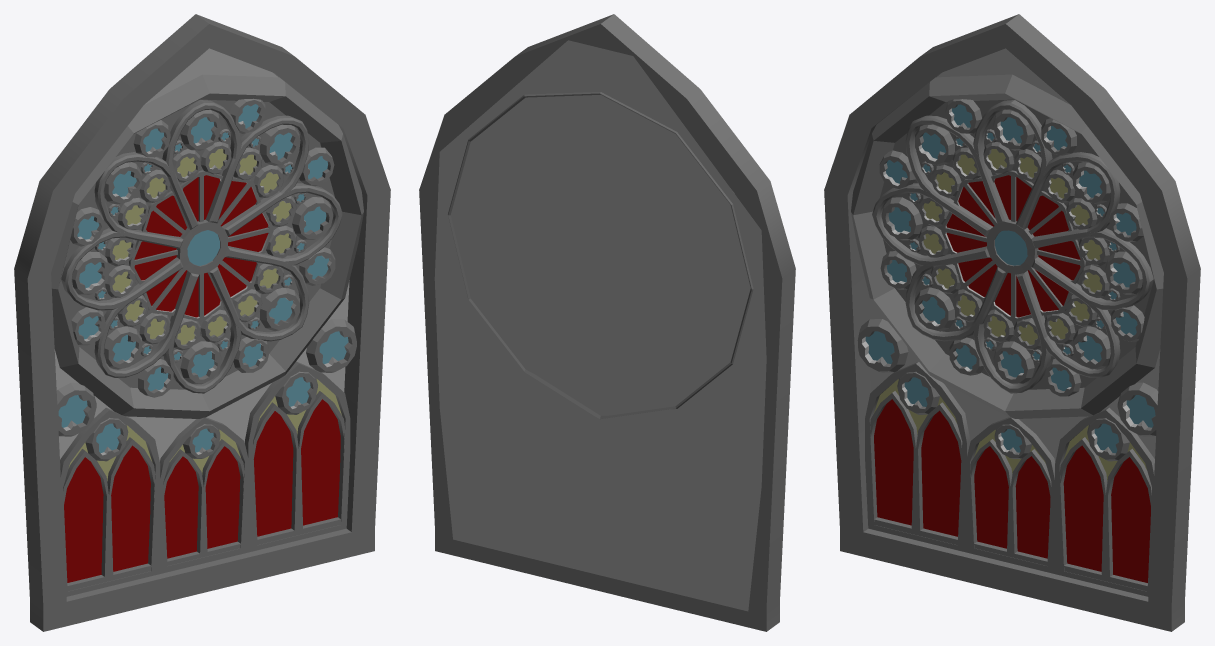
Rendered from RoseWindow.fbx.
3 renders of one model, left to right at view 1: azimuth 30°, elevation 25°; view 2: azimuth 150°, elevation 25°; view 3: azimuth 330°, elevation 25°, orthographic.
Visible parts, largest first — view 1: FINISHREOSE16; view 2: FINISHREOSE16; view 3: FINISHREOSE16.
Boxes of the visible parts, x1=… form: FINISHREOSE16: x1=14, y1=14, x2=390, y2=631; FINISHREOSE16: x1=419, y1=14, x2=795, y2=631; FINISHREOSE16: x1=824, y1=14, x2=1200, y2=631.
Size of the model in its own units: 0.0429 by 0.0641 by 0.00304.
